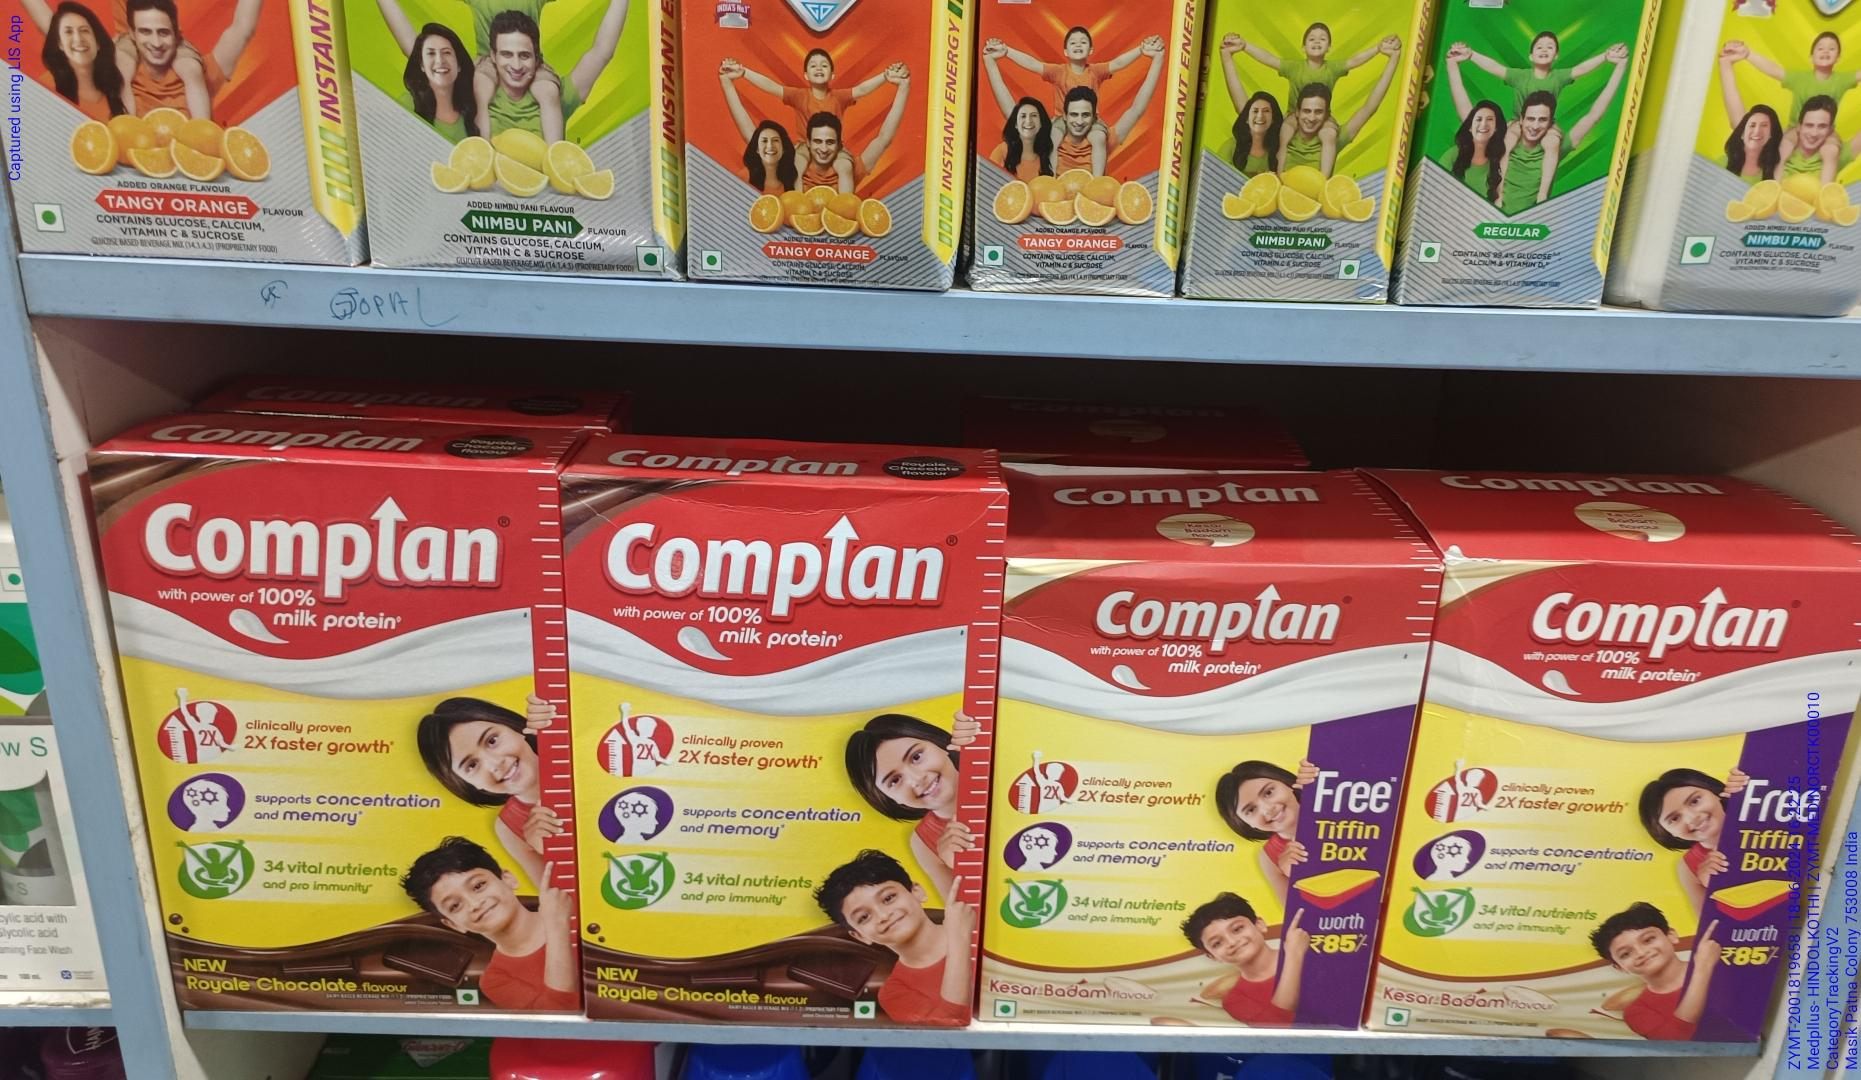COMPLAN_CHOCOLATE_500_GMS_PACK: (107, 456, 578, 1012), (591, 480, 970, 1022)
COMPLAN_KESAR_BADAM_500_GMS_PACK: (1375, 568, 1861, 1036), (979, 554, 1360, 1012)
